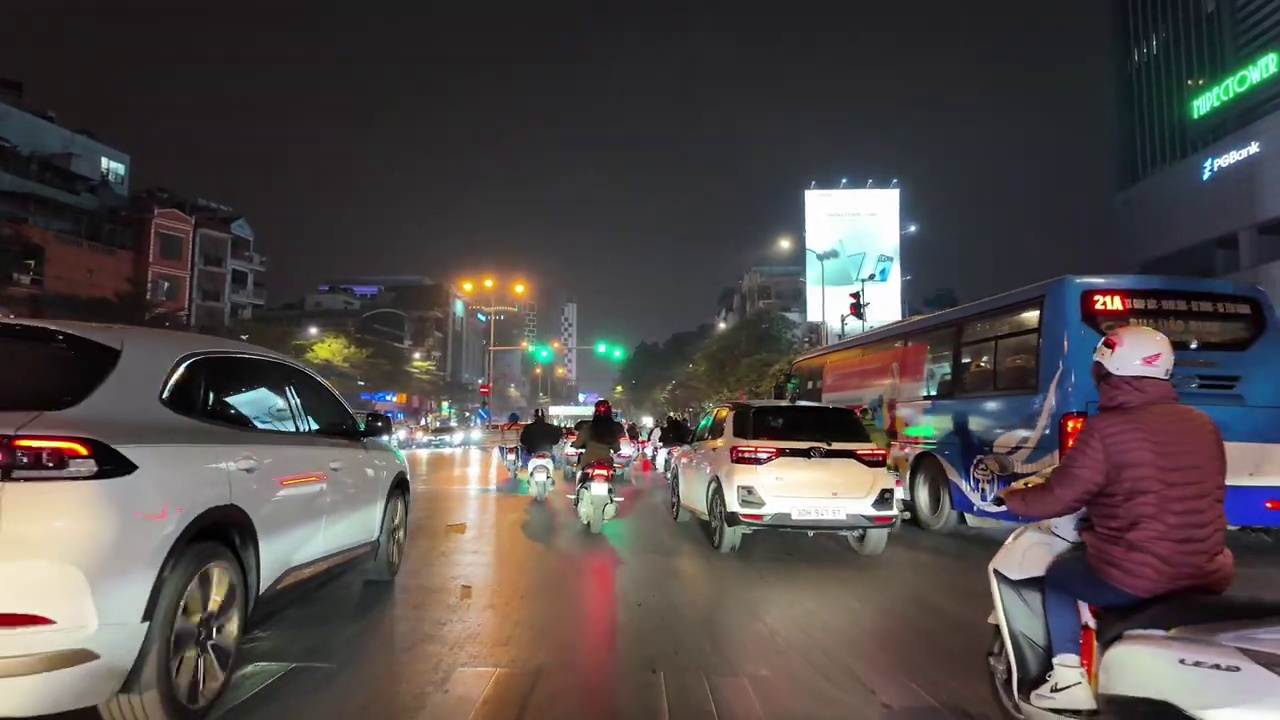acesa: (457, 275, 498, 299), (770, 233, 797, 258), (507, 276, 532, 300)
